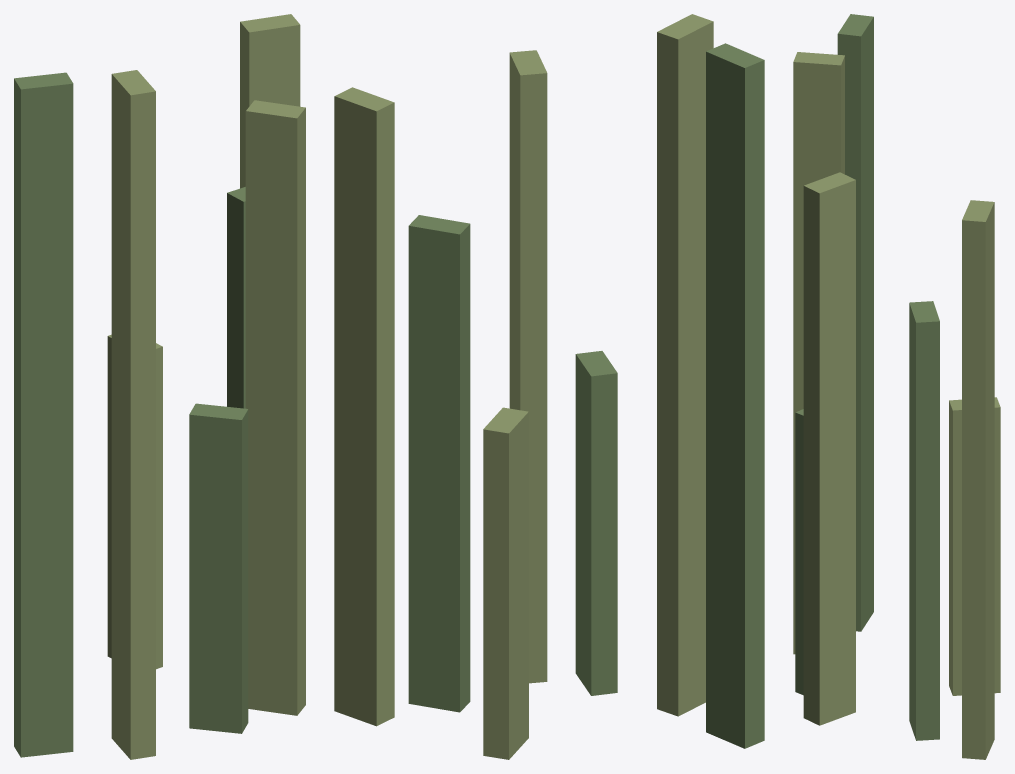
File: grass_clump_lowpoly.glb
The picture shows the model from 3 angles, left to right: view 1: azimuth 30°, elevation 25°; view 2: azimuth 150°, elevation 25°; view 3: azimuth 270°, elevation 25°; orthographic projection. The views are drawn at different scales.
Parts seen in each view (by area): view 1: grass_blade_5, grass_blade_1, grass_blade_0, grass_blade_3, grass_blade_6, grass_blade_4, grass_blade_2; view 2: grass_blade_5, grass_blade_6, grass_blade_0, grass_blade_4, grass_blade_1, grass_blade_2, grass_blade_3; view 3: grass_blade_1, grass_blade_6, grass_blade_4, grass_blade_5, grass_blade_0, grass_blade_2, grass_blade_3.
Part boxes in pixels (left/top/right/bottom): grass_blade_5: left=14, top=72, right=73, bottom=757; grass_blade_1: left=245, top=100, right=305, bottom=715; grass_blade_0: left=111, top=70, right=155, bottom=759; grass_blade_3: left=189, top=403, right=248, bottom=733; grass_blade_6: left=240, top=14, right=300, bottom=188; grass_blade_4: left=227, top=187, right=245, bottom=408; grass_blade_2: left=107, top=334, right=162, bottom=669; grass_blade_5: left=706, top=43, right=764, bottom=748; grass_blade_6: left=334, top=87, right=394, bottom=726; grass_blade_0: left=657, top=14, right=713, bottom=716; grass_blade_4: left=408, top=215, right=470, bottom=712; grass_blade_1: left=509, top=50, right=547, bottom=683; grass_blade_2: left=483, top=407, right=528, bottom=759; grass_blade_3: left=575, top=351, right=617, bottom=695; grass_blade_1: left=803, top=172, right=855, bottom=725; grass_blade_6: left=962, top=200, right=994, bottom=759; grass_blade_4: left=909, top=301, right=939, bottom=740; grass_blade_5: left=837, top=14, right=873, bottom=631; grass_blade_0: left=793, top=52, right=844, bottom=654; grass_blade_2: left=949, top=397, right=1000, bottom=695; grass_blade_3: left=795, top=409, right=803, bottom=695.
Bounding box in the file's own units: 0.2944 × 0.5429 × 0.1713.
